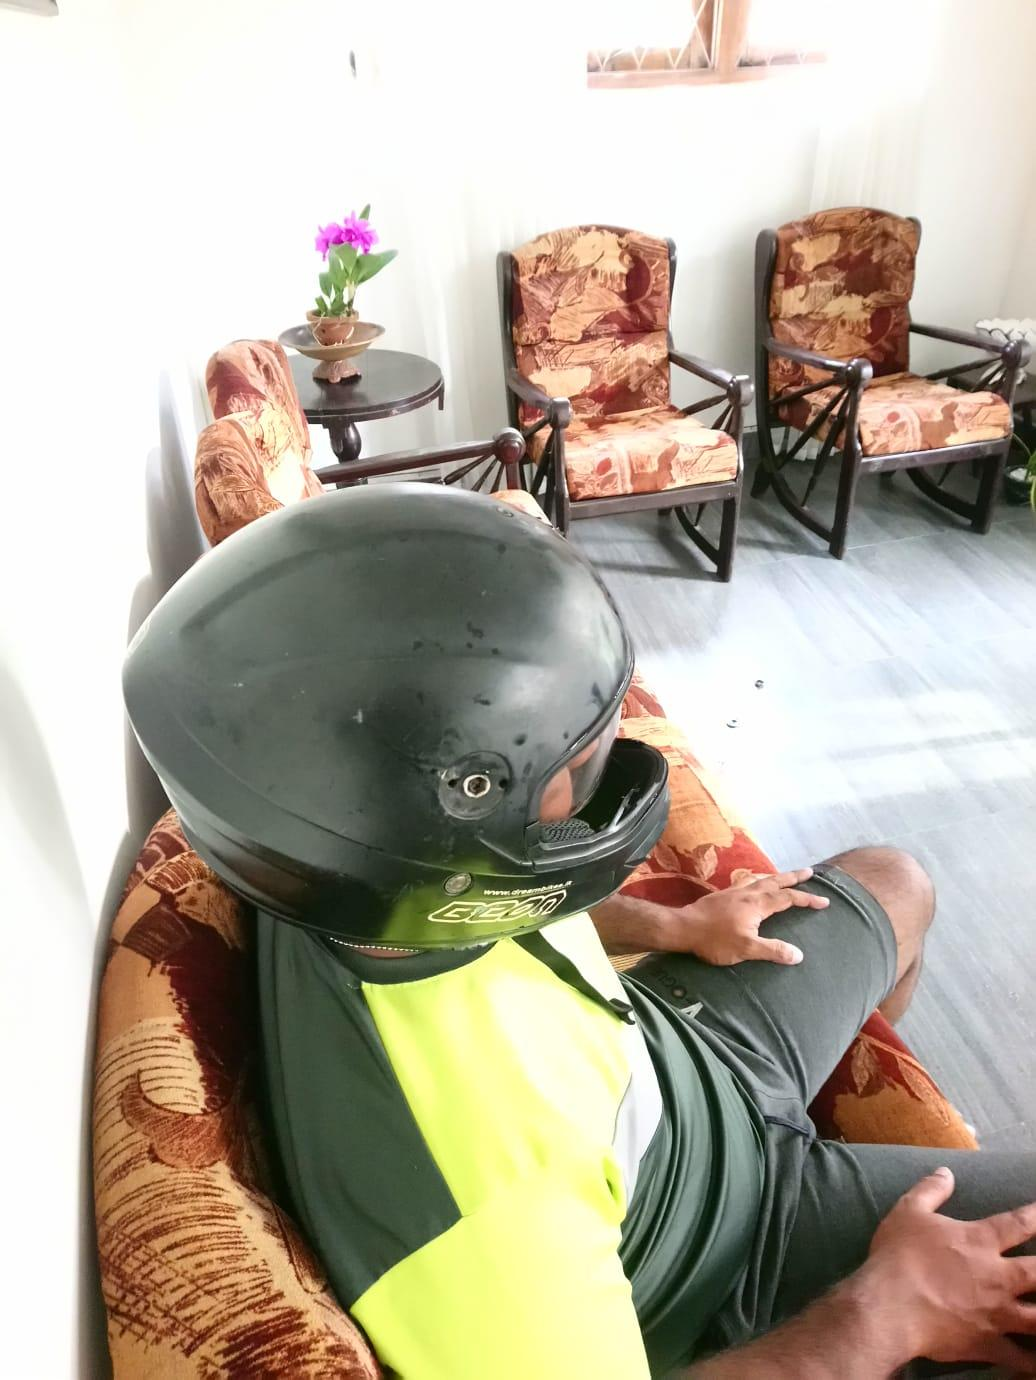helmet: (119, 485, 670, 949)
